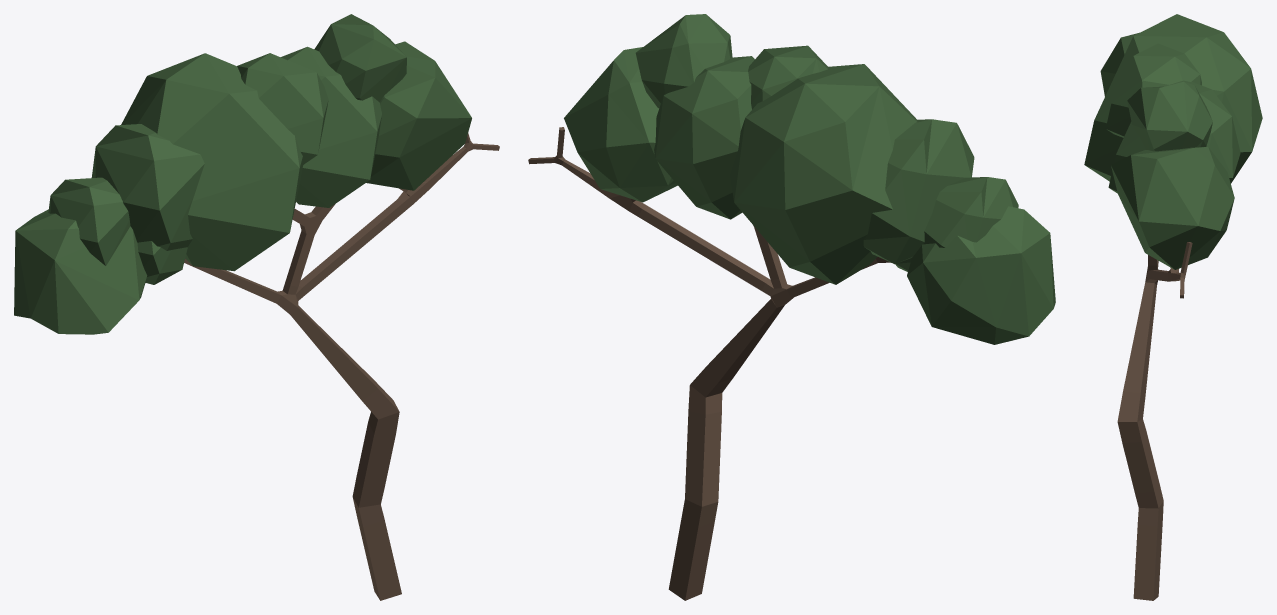
Rendered from Tree_Simon_Roeloffs.fbx.
The picture shows the model from 3 angles, left to right: view 1: azimuth 30°, elevation 25°; view 2: azimuth 150°, elevation 25°; view 3: azimuth 270°, elevation 25°; orthographic projection. The views are drawn at different scales.
Parts seen in each view (by area): view 1: Cube; view 2: Cube; view 3: Cube.
Part boxes in pixels (x1,y1,x2,y2): Cube: (14, 14, 499, 600); Cube: (528, 14, 1055, 600); Cube: (1084, 14, 1262, 600).
Size of the model in its own units: 12.26 by 13.69 by 4.33.
